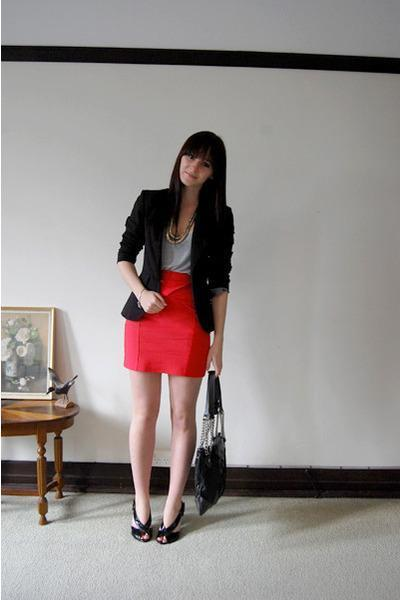bag: (182, 396, 230, 514)
jacket: (117, 190, 234, 335)
shirt: (164, 231, 191, 274)
shoe: (132, 507, 183, 544)
skirt: (124, 271, 203, 377)
